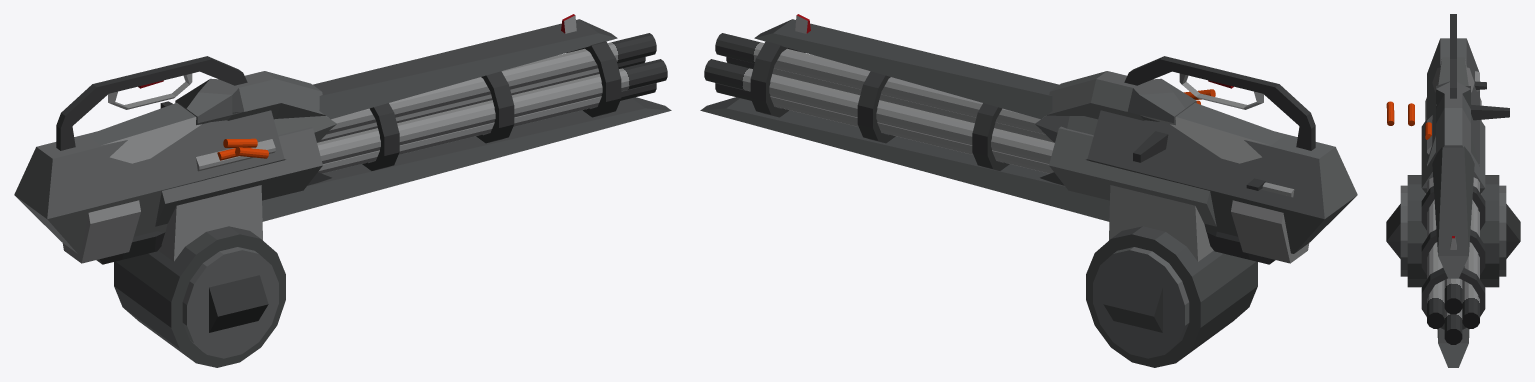
The model's file is heavy_machine_gun.glb.
3 renders of one model, left to right at view 1: azimuth 30°, elevation 25°; view 2: azimuth 150°, elevation 25°; view 3: azimuth 270°, elevation 25°, orthographic. The views are drawn at different scales.
Parts seen in each view (by area): view 1: cuboid.003, cuboid.001, cuboid.014, cylinder.001, tube.008, cylinder, tube.010, cuboid.002, cuboid.004, cuboid.012, cuboid.006, cuboid.010 (+11 smaller); view 2: cuboid.003, cuboid.001, cuboid.014, cylinder.001, tube.009, cylinder, tube.010, cuboid.002, cuboid.004, cuboid.012, cuboid.006, cuboid.010 (+11 smaller); view 3: cuboid.014, cylinder.001, cuboid.002, cuboid.003, cylinder, tube.008, tube.009, cuboid.011, cuboid.004, tube.007, cuboid.006, cuboid.001 (+9 smaller).
Boxes of the visible parts, bbox=[...] form: cuboid.003: bbox=[14, 110, 331, 253]; cuboid.001: bbox=[262, 97, 671, 221]; cuboid.014: bbox=[313, 19, 617, 119]; cylinder.001: bbox=[114, 226, 285, 367]; tube.008: bbox=[317, 59, 667, 164]; cylinder: bbox=[182, 247, 278, 358]; tube.010: bbox=[326, 33, 656, 134]; cuboid.002: bbox=[175, 71, 325, 125]; cuboid.004: bbox=[155, 127, 322, 226]; cuboid.012: bbox=[158, 185, 262, 261]; cuboid.006: bbox=[87, 103, 201, 163]; cuboid.010: bbox=[62, 200, 140, 263]; cuboid.003: bbox=[1040, 110, 1357, 253]; cuboid.001: bbox=[700, 97, 1109, 221]; cuboid.014: bbox=[754, 19, 1058, 119]; cylinder.001: bbox=[1086, 226, 1257, 367]; tube.009: bbox=[704, 59, 1054, 164]; cylinder: bbox=[1093, 247, 1189, 358]; tube.010: bbox=[715, 33, 1045, 134]; cuboid.002: bbox=[1046, 71, 1196, 125]; cuboid.004: bbox=[1049, 126, 1216, 226]; cuboid.012: bbox=[1109, 185, 1213, 261]; cuboid.006: bbox=[1170, 103, 1284, 163]; cuboid.010: bbox=[1231, 200, 1309, 263]; cuboid.014: bbox=[1432, 146, 1474, 278]; cylinder.001: bbox=[1407, 175, 1499, 287]; cuboid.002: bbox=[1436, 81, 1470, 154]; cuboid.003: bbox=[1427, 38, 1479, 165]; cylinder: bbox=[1400, 185, 1506, 276]; tube.008: bbox=[1427, 177, 1444, 328]; tube.009: bbox=[1462, 177, 1479, 328]; cuboid.011: bbox=[1386, 204, 1520, 258]; cuboid.004: bbox=[1421, 119, 1485, 193]; tube.007: bbox=[1421, 268, 1485, 329]; cuboid.006: bbox=[1432, 57, 1474, 92]; cuboid.001: bbox=[1437, 328, 1469, 367].
Bounding box in the file's own units: 1.04 × 0.4437 × 0.2375.
Materials: 1 (1 with a texture image).
